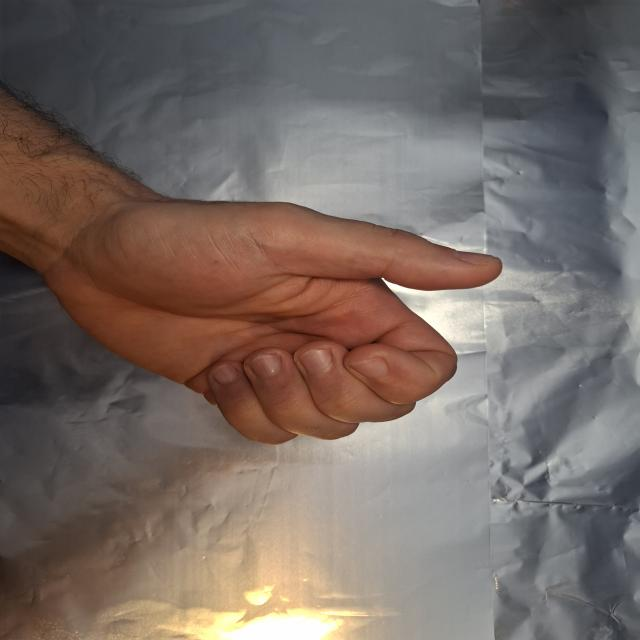glove_off: (35, 168, 506, 450)
